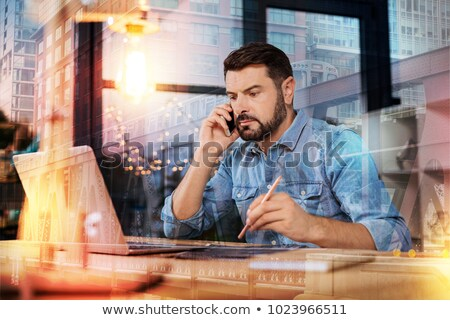phone: (215, 99, 236, 146)
talk: (198, 82, 279, 152)
